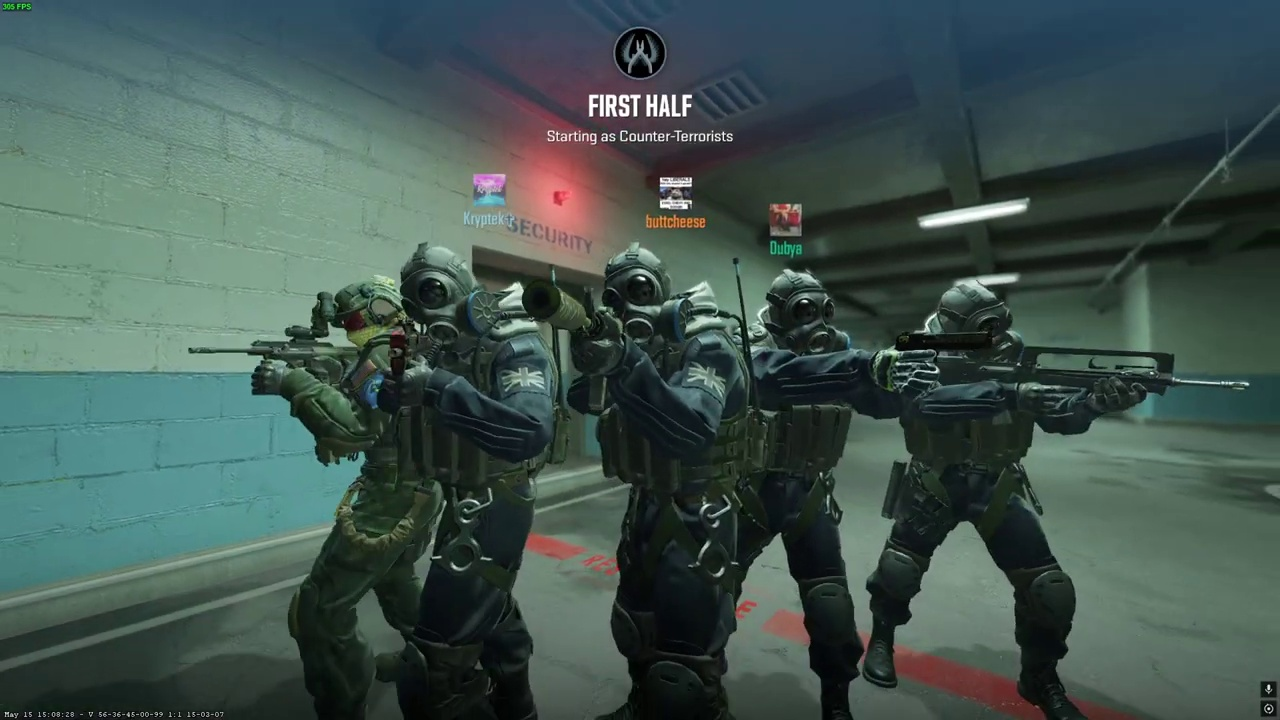CT: (862, 279, 1095, 720), (383, 244, 570, 720), (570, 245, 754, 719), (731, 268, 887, 720), (264, 274, 414, 720)
